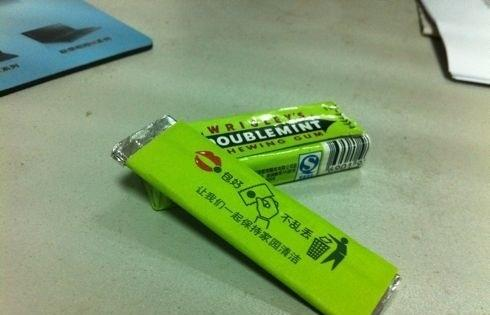Doublemint: (194, 102, 337, 165)
